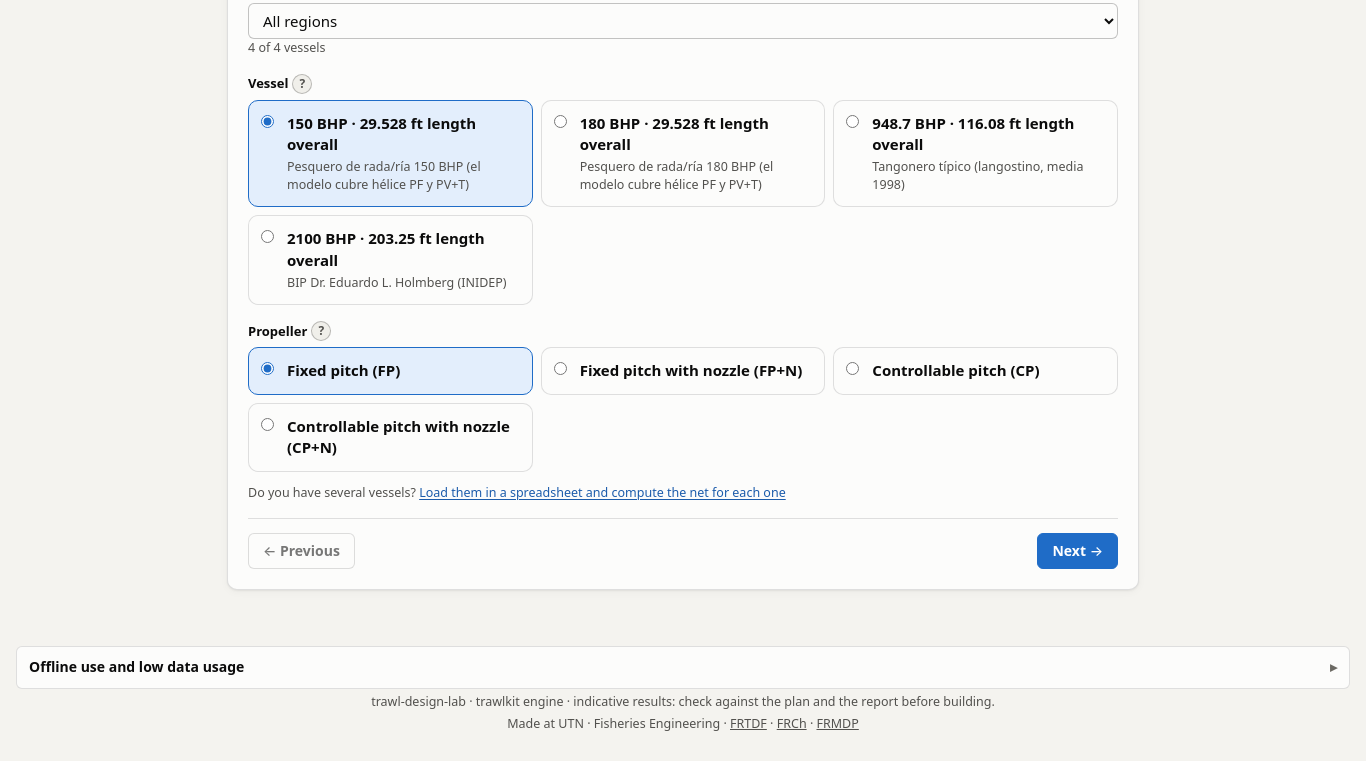
Test case: guided mode in English › accepts the depth in feet and sends it to the API in metres
The image size is (1366, 761).
(page scrolled)
Check: the radio button labelled "150 BHP" is shown, box [261, 115, 274, 128]
Click the button "Next →" at coordinates (1078, 551), box [1038, 533, 1118, 569]
(page scrolled)
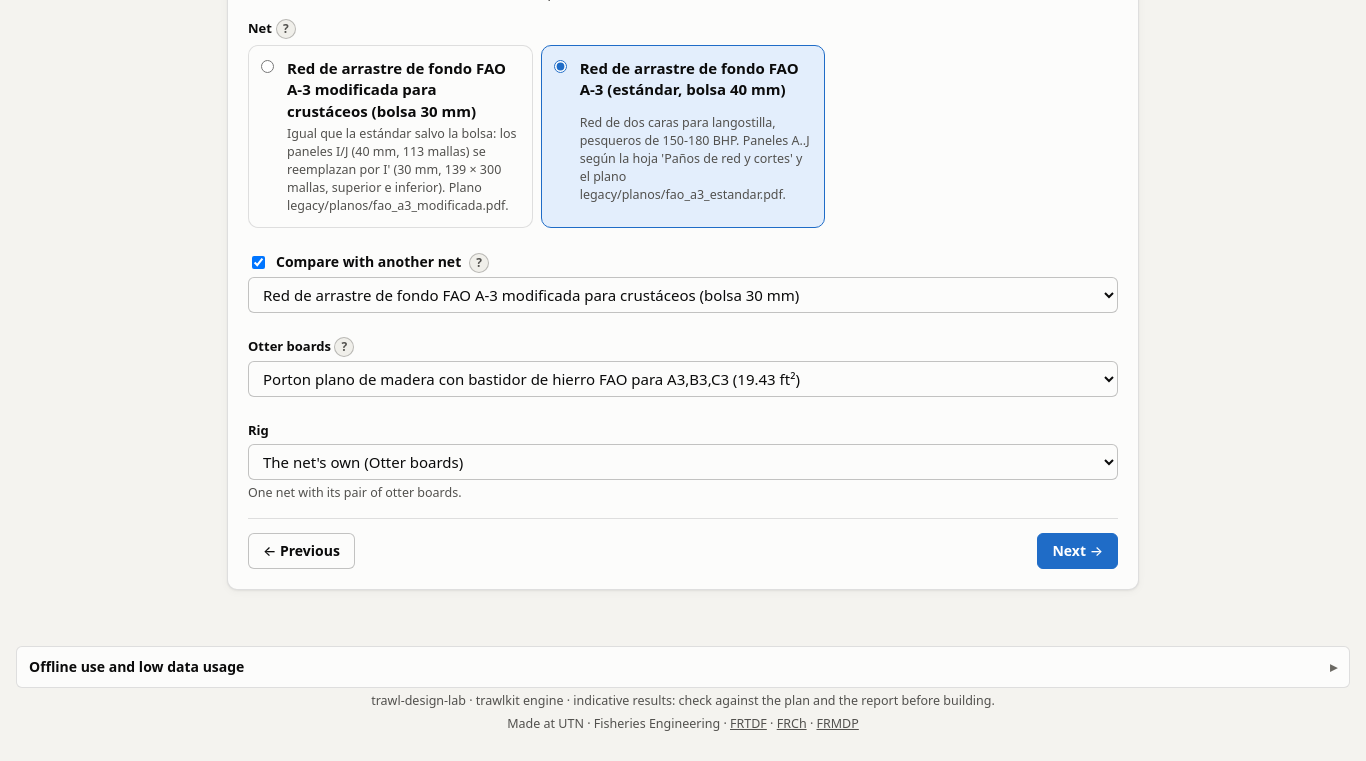
Click the button "Next →" at coordinates (1078, 551), box [1038, 533, 1118, 569]
(page scrolled)
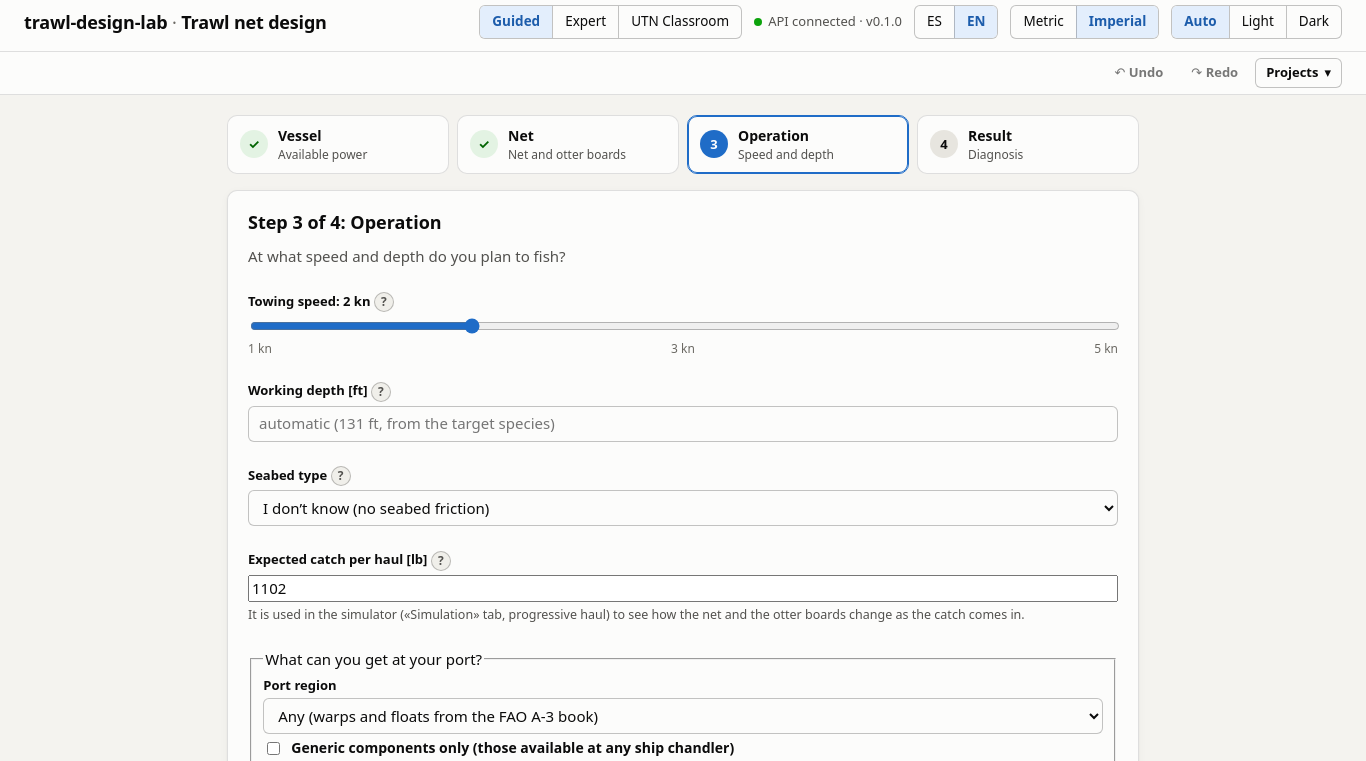
Type "200" into the field labelled "Working depth [ft] ?" at coordinates (683, 424), box [248, 406, 1118, 442]
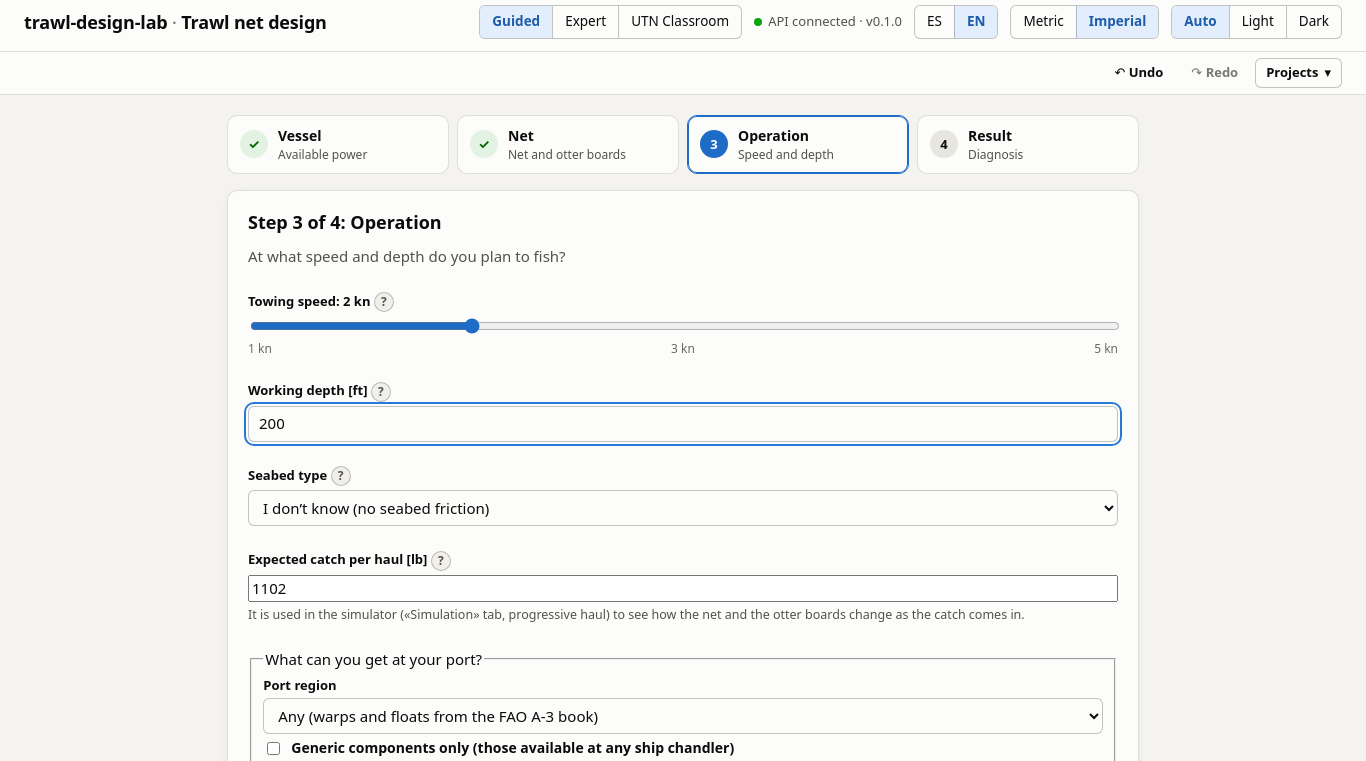
Replace the text in the field labelled "Working depth [ft] ?" with "5000" at coordinates (683, 424), box [248, 406, 1118, 442]
(page scrolled)
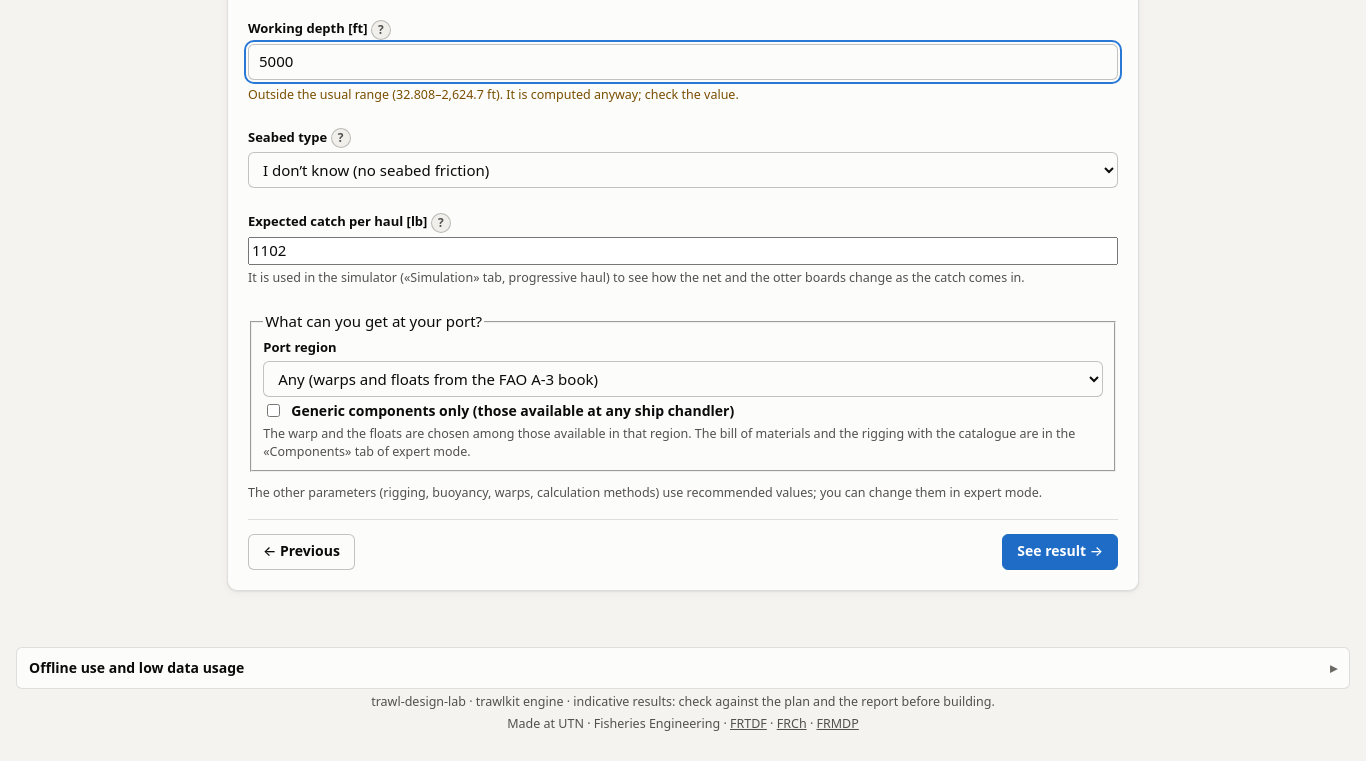
Check: the number field labelled "Expected catch per haul [lb] ?" holds "1102", box [248, 237, 1118, 265]
Check: the text "Outside the usual range (32.808–2,624.7 ft)" is shown, box [248, 86, 739, 103]
Click the button "See result →" at coordinates (1060, 552), box [1002, 534, 1118, 570]
(page scrolled)
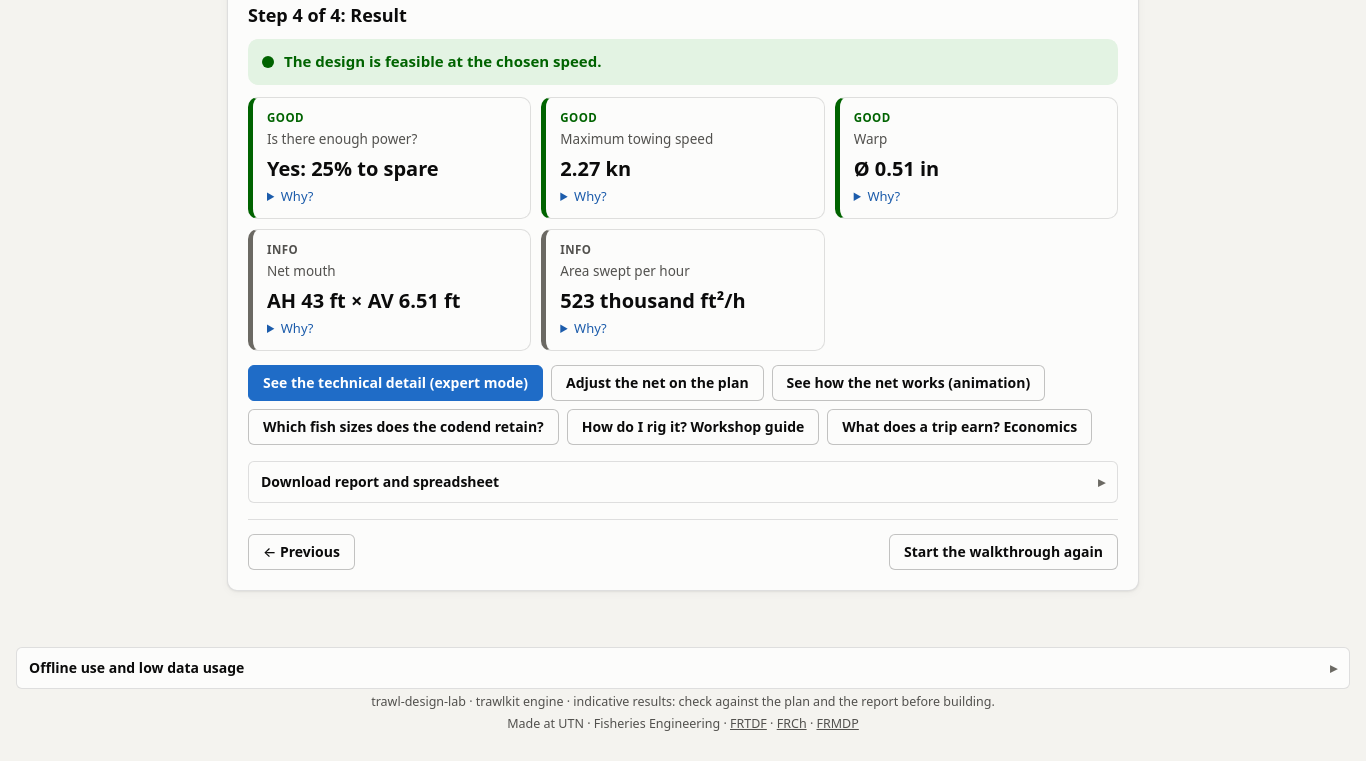
Check: the list item "Net mouth" reads "Info Net mouth AH 43 ft × AV 6.51 ft Why?", box [267, 287, 460, 314]
